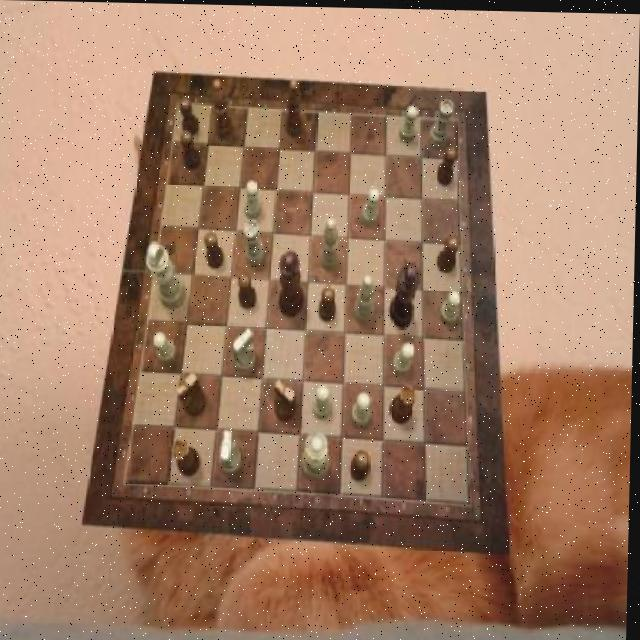bishop: (211, 78, 235, 138), (287, 77, 305, 136)
black-bishop: (392, 261, 420, 327)
black-king: (177, 371, 208, 415), (275, 379, 299, 422)
black-knight: (437, 145, 458, 185), (438, 234, 461, 270), (182, 129, 202, 170), (181, 97, 201, 138), (206, 232, 227, 268), (239, 272, 259, 309), (352, 448, 372, 479), (321, 284, 338, 319)
black-pawn: (279, 249, 306, 316)
black-queen: (173, 438, 203, 476), (391, 384, 419, 424)
black-rook: (322, 215, 342, 270), (356, 272, 377, 324)
white-bishop: (147, 241, 188, 308)
white-king: (234, 325, 257, 371), (221, 429, 245, 473)
white-knight: (393, 341, 416, 375), (154, 331, 178, 363), (442, 288, 463, 324), (362, 186, 381, 225), (399, 104, 418, 142), (354, 391, 374, 426), (315, 382, 333, 417), (246, 180, 262, 218)
white-pawn: (304, 430, 334, 479)
white-queen: (430, 97, 455, 146), (245, 218, 268, 265)
